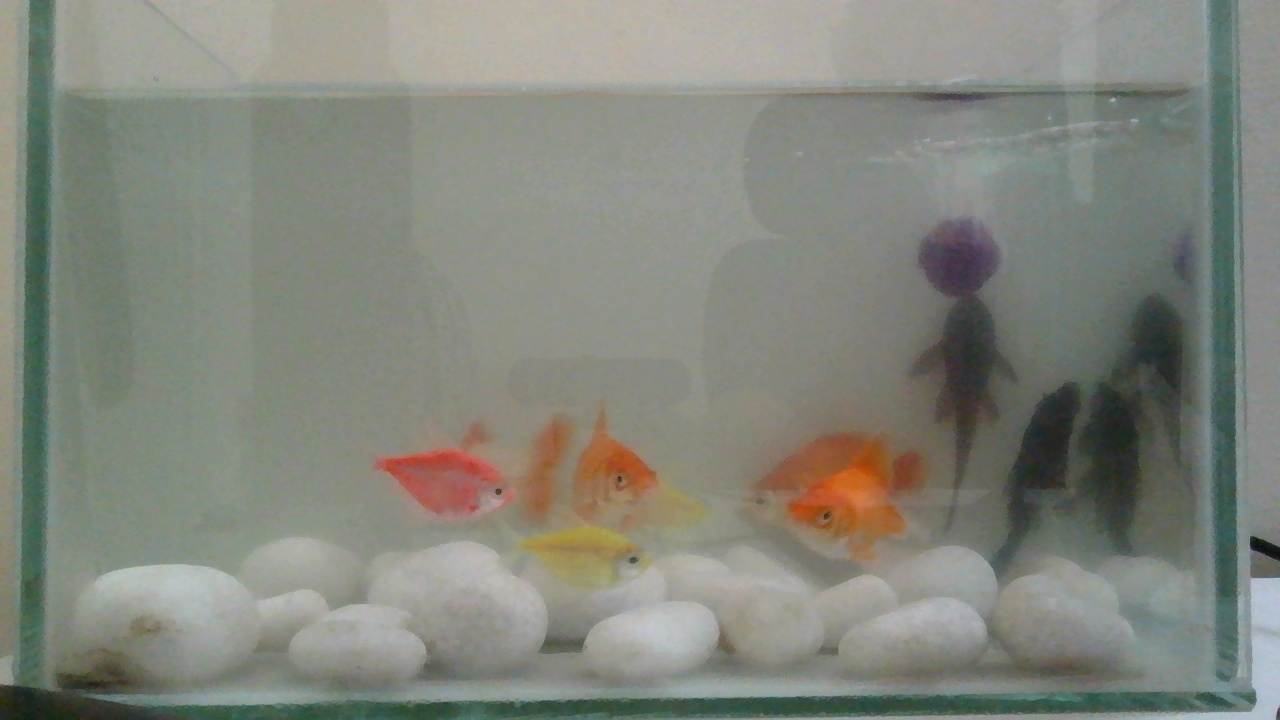fish: (751, 428, 924, 575), (506, 518, 644, 602)
